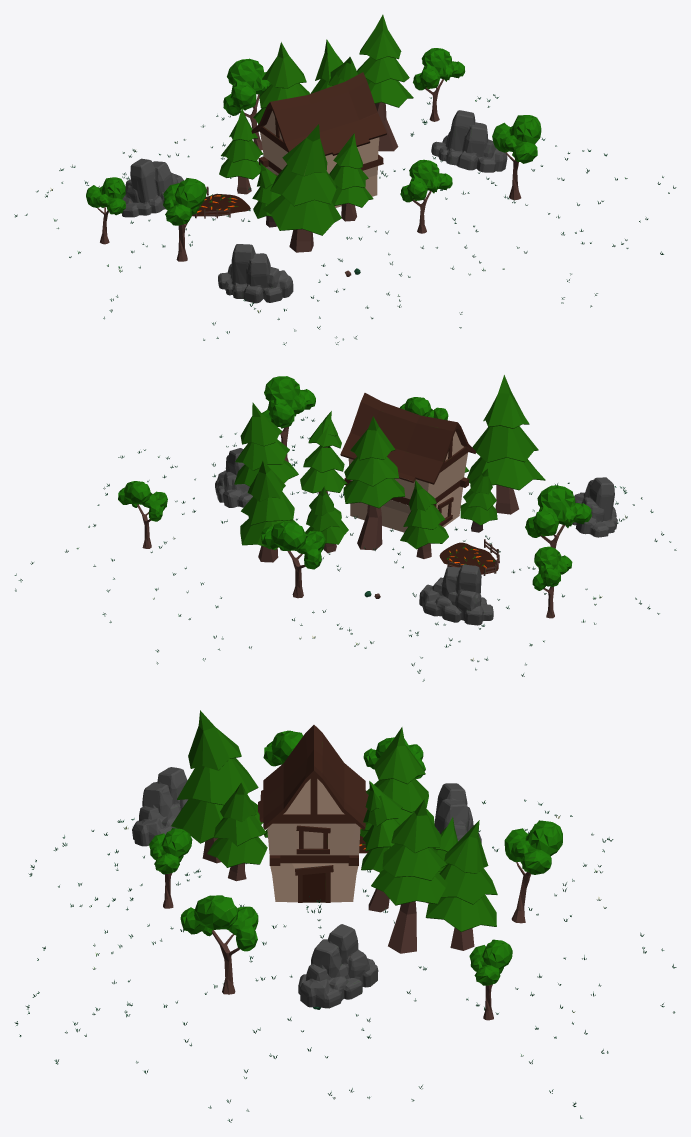
File: ile_props.fbx
3 views of the same model, one above another, from view 1: azimuth 30°, elevation 25°; view 2: azimuth 150°, elevation 25°; view 3: azimuth 270°, elevation 25° (orthographic). The views are drawn at different scales.
Parts seen in each view (by area): view 1: ile; view 2: ile; view 3: ile.
Boxes of the visible parts, bbox=[...] form: ile: bbox=[14, 14, 676, 345]; ile: bbox=[14, 375, 676, 681]; ile: bbox=[14, 710, 676, 1122].
Size of the model in its own units: 27213 by 10115 by 23460.
